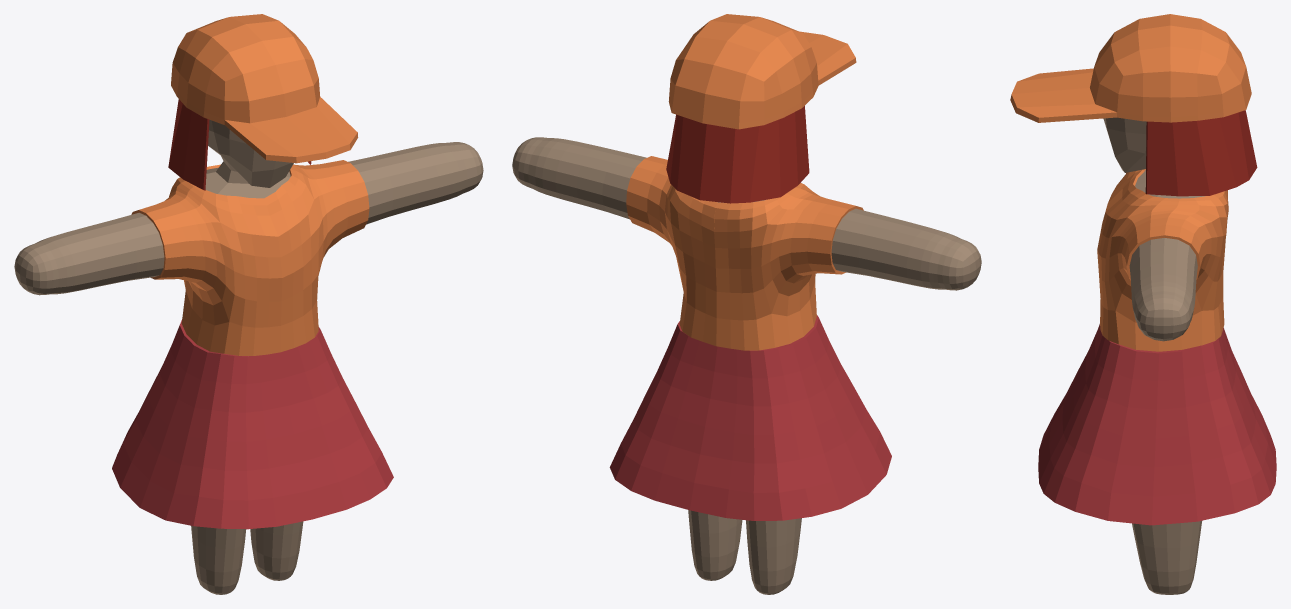
The model's file is Mod12.glb.
3 renders of one model, left to right at view 1: azimuth 30°, elevation 25°; view 2: azimuth 150°, elevation 25°; view 3: azimuth 270°, elevation 25°, orthographic.
Visible parts, largest first — view 1: Modelo 2c; view 2: Modelo 2c; view 3: Modelo 2c.
Boxes of the visible parts, x1=… form: Modelo 2c: x1=14, y1=14, x2=483, y2=594; Modelo 2c: x1=512, y1=14, x2=981, y2=594; Modelo 2c: x1=1010, y1=14, x2=1276, y2=594.
Size of the model in its own units: 7.96 by 9.24 by 4.05.
